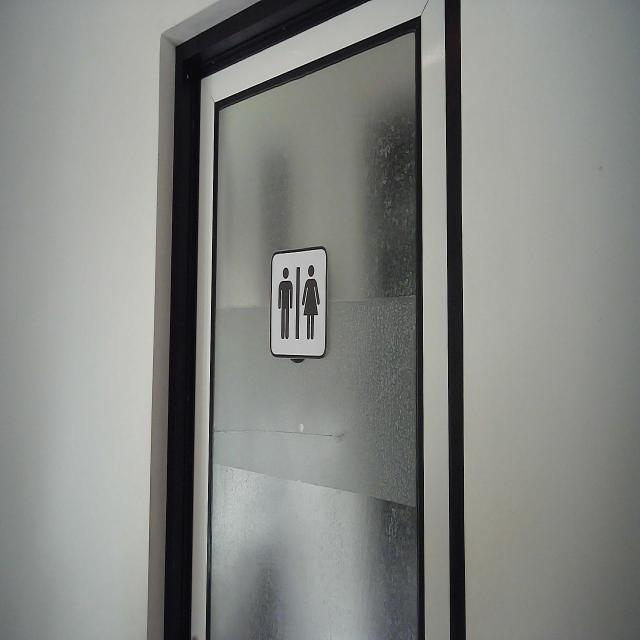restroom: (267, 243, 329, 362)
